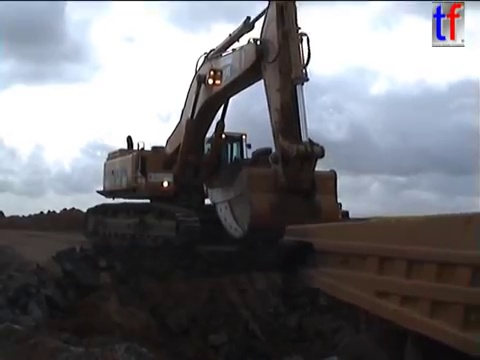excavator: (79, 1, 343, 252)
truck: (277, 210, 480, 360)
wheel loader: (275, 192, 351, 233)
